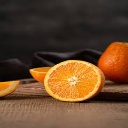orange: (45, 59, 106, 103)
